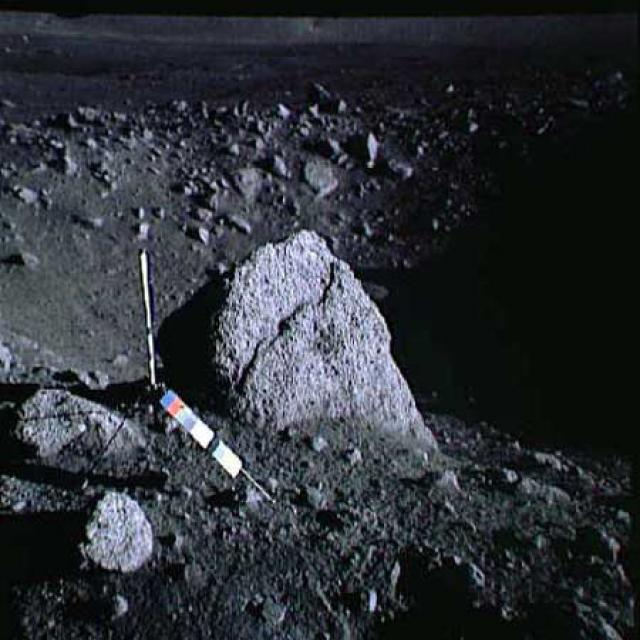artifact: (92, 215, 268, 511)
crater: (9, 98, 638, 438)
rock: (208, 221, 461, 474), (52, 478, 184, 582), (11, 371, 145, 473)
